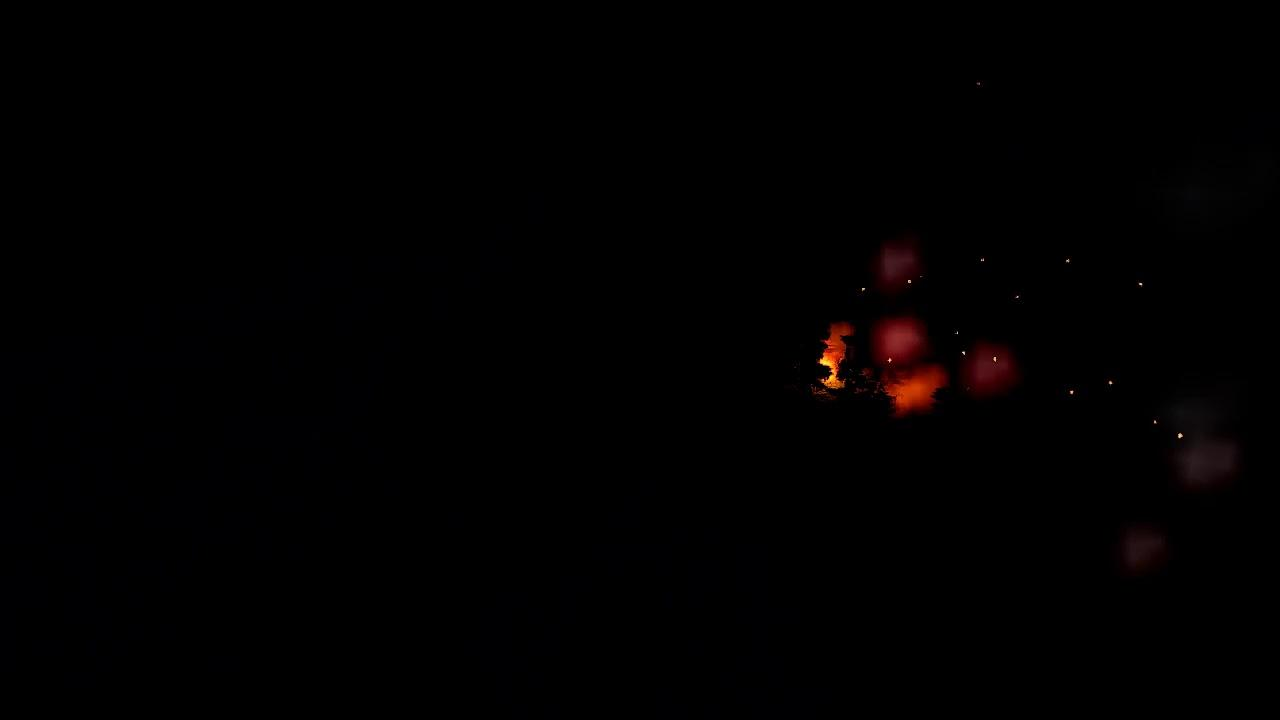fire: (817, 325, 853, 387)
smoke: (864, 234, 1023, 412)
